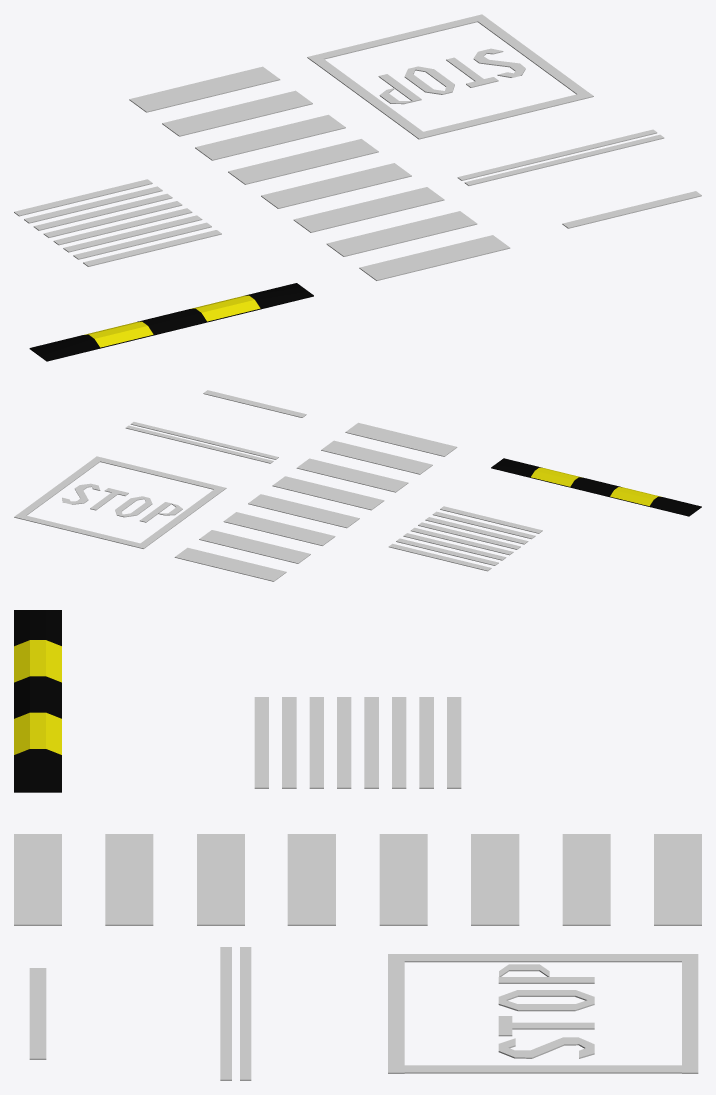
3 views of the same model, one above another, from view 1: azimuth 30°, elevation 25°; view 2: azimuth 150°, elevation 25°; view 3: azimuth 270°, elevation 25° (orthographic). The views are drawn at different scales.
Visible parts, largest first — view 1: Cube.018, Cube.017, Cube.002, Cube, Cube.001, Cube.004, Cube.006, Cube.007, Cube.005, Cube.003, Cube.019, Cube.008 (+8 smaller); view 2: Cube.018, Cube.017, Cube, Cube.001, Cube.004, Cube.002, Cube.003, Cube.005, Cube.007, Cube.006, Cube.019, Cube.008 (+8 smaller); view 3: Cube.018, Cube.017, Cube.001, Cube.003, Cube.004, Cube.005, Cube.006, Cube, Cube.002, Cube.007, Cube.019, Cube.008 (+9 smaller).
Part boxes in pixels (left/top/right/bottom): Cube.018: left=307, top=14, right=593, bottom=139; Cube.017: left=29, top=283, right=313, bottom=361; Cube.002: left=293, top=187, right=444, bottom=232; Cube: left=359, top=235, right=510, bottom=280; Cube.001: left=326, top=211, right=477, bottom=256; Cube.004: left=228, top=139, right=378, bottom=184; Cube.006: left=162, top=90, right=312, bottom=136; Cube.007: left=129, top=66, right=280, bottom=112; Cube.005: left=195, top=114, right=345, bottom=160; Cube.003: left=261, top=163, right=411, bottom=208; Cube.019: left=457, top=129, right=664, bottom=185; Cube.008: left=562, top=191, right=701, bottom=228; Cube.018: left=14, top=456, right=226, bottom=548; Cube.017: left=491, top=458, right=701, bottom=516; Cube: left=345, top=422, right=457, bottom=456; Cube.001: left=321, top=440, right=432, bottom=474; Cube.004: left=248, top=494, right=359, bottom=528; Cube.002: left=296, top=458, right=408, bottom=492; Cube.003: left=272, top=476, right=384, bottom=510; Cube.005: left=223, top=512, right=335, bottom=545; Cube.007: left=174, top=547, right=286, bottom=581; Cube.006: left=199, top=530, right=310, bottom=563; Cube.019: left=125, top=422, right=278, bottom=463; Cube.008: left=203, top=390, right=306, bottom=417; Cube.018: left=388, top=954, right=698, bottom=1073; Cube.017: left=14, top=610, right=61, bottom=792; Cube.001: left=105, top=834, right=153, bottom=925; Cube.003: left=287, top=834, right=335, bottom=925; Cube.004: left=379, top=834, right=427, bottom=925; Cube.005: left=471, top=834, right=519, bottom=925; Cube.006: left=562, top=834, right=610, bottom=925; Cube: left=14, top=834, right=61, bottom=925; Cube.002: left=197, top=834, right=244, bottom=925; Cube.007: left=654, top=834, right=701, bottom=925; Cube.019: left=220, top=947, right=251, bottom=1080; Cube.008: left=29, top=968, right=46, bottom=1059.
Size of the model in its own units: 1035 by 7.85 by 641.
